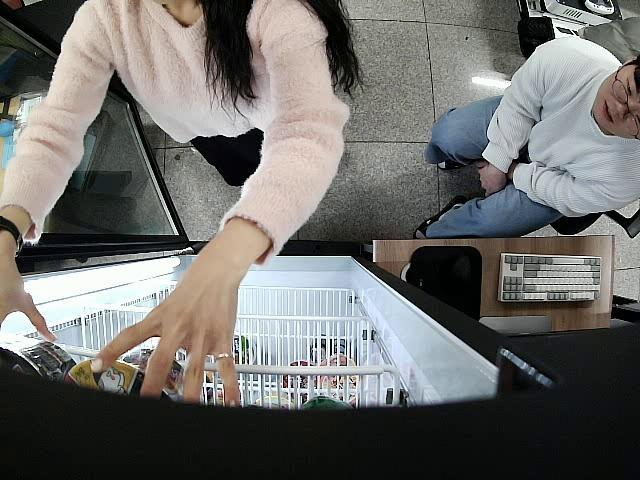07_buldak_L: (0, 322, 103, 396), (90, 346, 206, 405)
